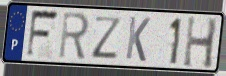1: (168, 17, 183, 66)
F: (25, 9, 61, 61)
H: (181, 14, 220, 71)
K: (124, 15, 152, 64)
R: (57, 10, 91, 61)
Z: (92, 15, 125, 61)
